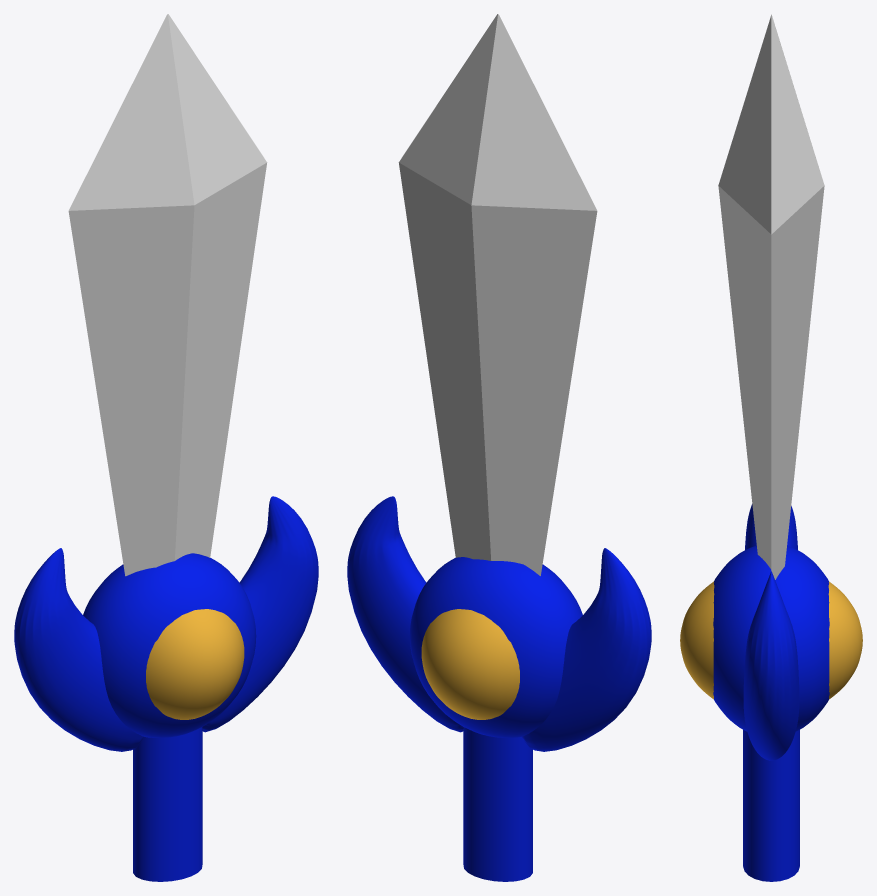
Rendered from move2.glb.
3 views of the same model, side by side, from view 1: azimuth 30°, elevation 25°; view 2: azimuth 150°, elevation 25°; view 3: azimuth 270°, elevation 25° (orthographic).
Visible parts, largest first — view 1: kirby_sword_blade, kirby_sword_andle, kirby_sword_gold; view 2: kirby_sword_blade, kirby_sword_andle, kirby_sword_gold; view 3: kirby_sword_blade, kirby_sword_andle, kirby_sword_gold.
Boxes of the visible parts, x1,y1,x2,y2 form: kirby_sword_blade: (68, 14, 267, 576); kirby_sword_andle: (14, 496, 318, 881); kirby_sword_gold: (146, 609, 244, 719); kirby_sword_blade: (398, 14, 597, 575); kirby_sword_andle: (347, 496, 651, 881); kirby_sword_gold: (421, 609, 519, 719); kirby_sword_blade: (718, 14, 824, 579); kirby_sword_andle: (713, 504, 829, 881); kirby_sword_gold: (680, 581, 862, 699).
Size of the model in its own units: 1.1 by 3.02 by 0.5879.
